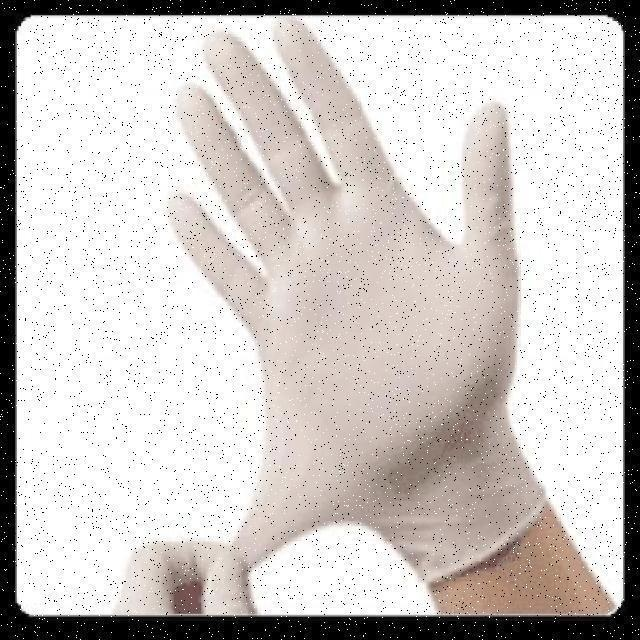Guantes: (157, 26, 546, 567)
